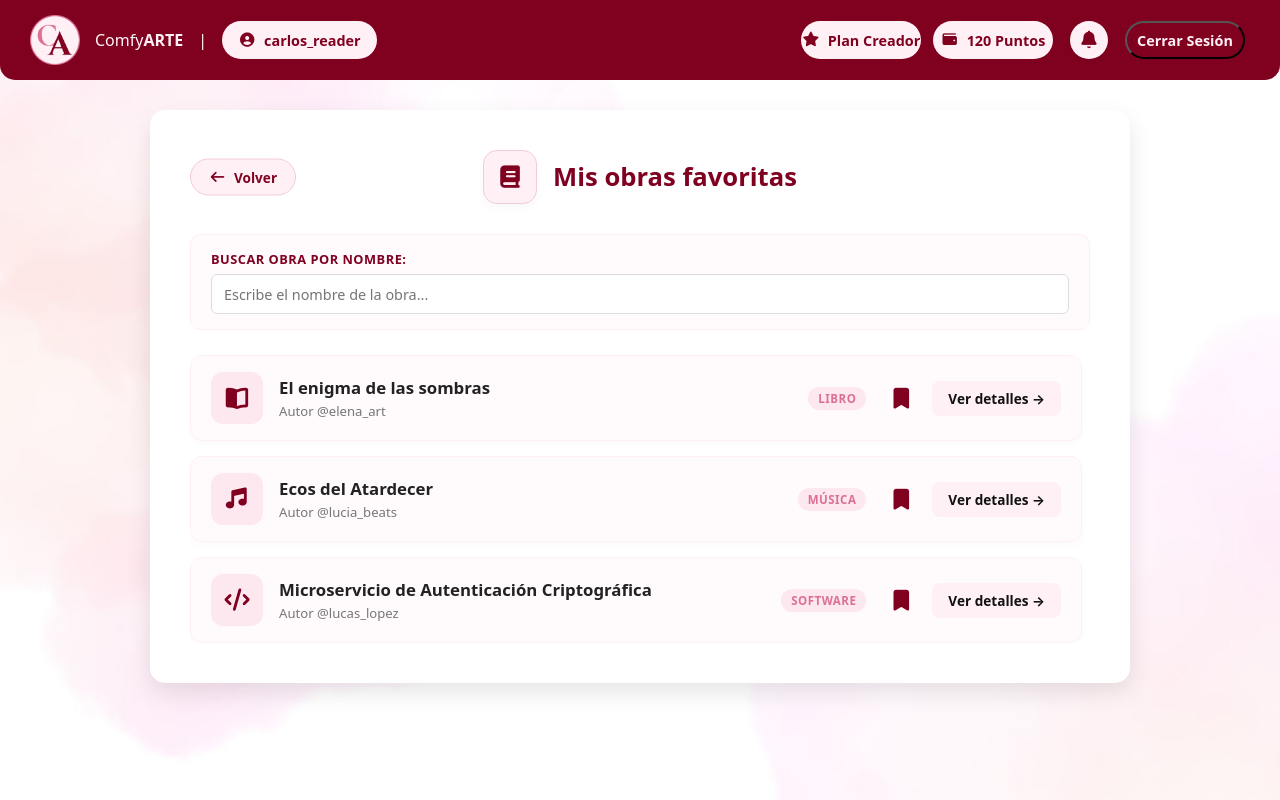
Test: Flujo de Obras Favoritas › elimina la obra de favoritos
Click the button with class "btn-bookmark-action" next to "Libro" at (901,398), box [882,378,920,418]
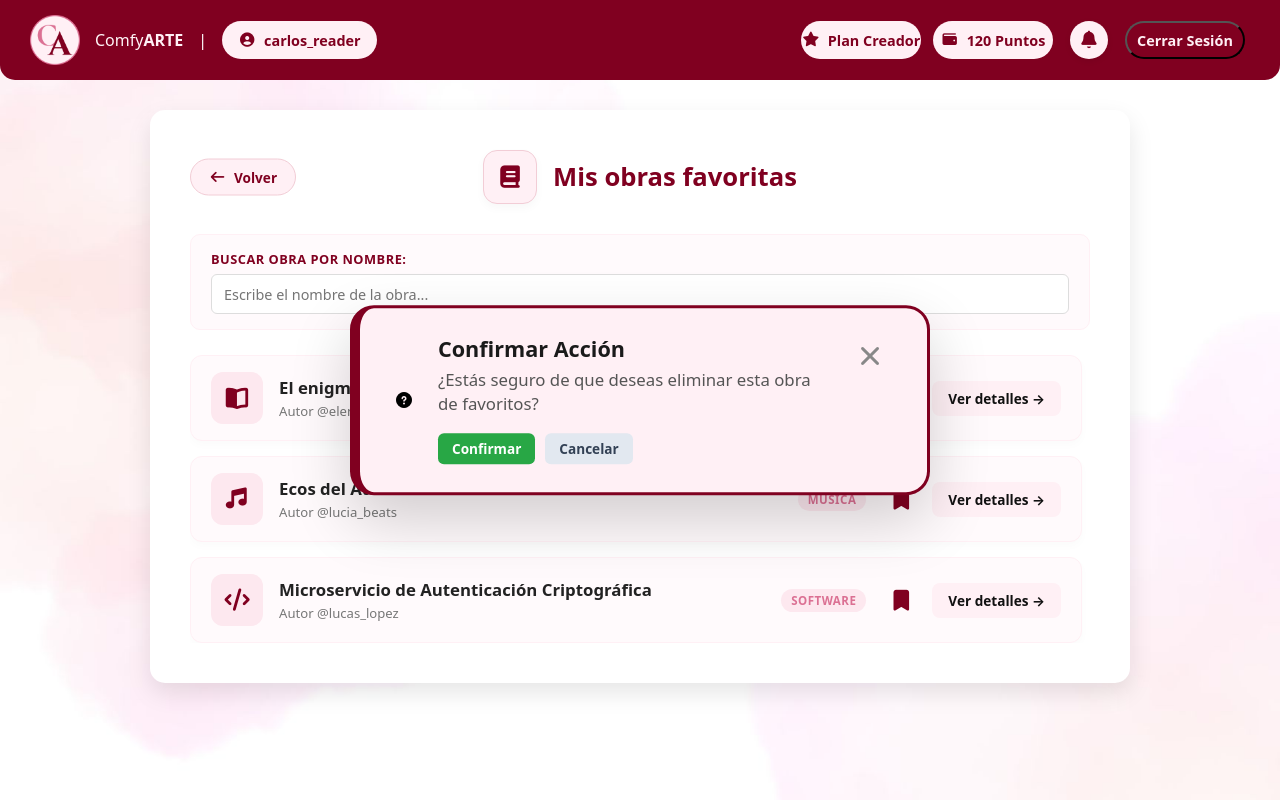
Click the button with class "btn-confirm" at (487,449), box [438,433,535,464]
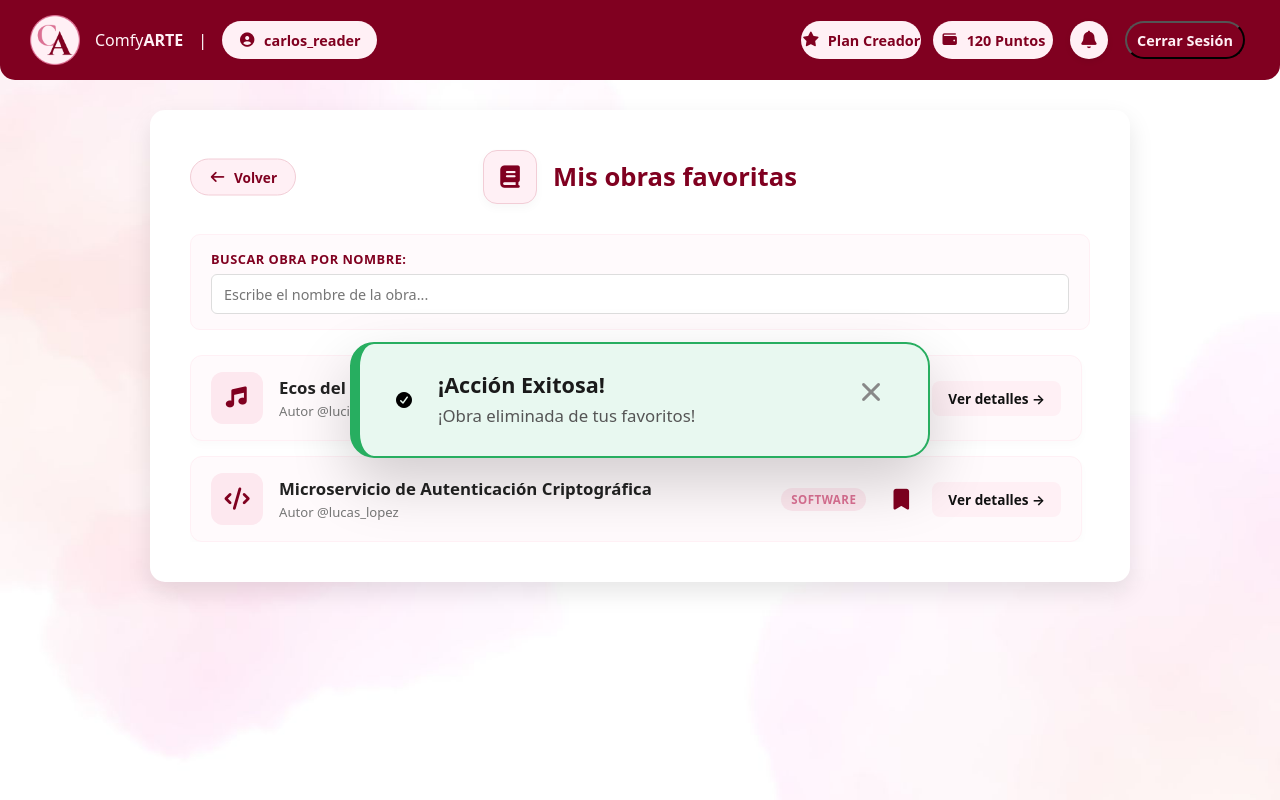
Check: the element with class "success" is shown, box [350,342,930,458]
Check: the text with class "success" reads "¡Obra eliminada de tus favoritos!", box [438,404,695,427]
Check: the number of elements with class "work-custom-card" is 2, box [190,355,1082,441]; [190,456,1082,542]
